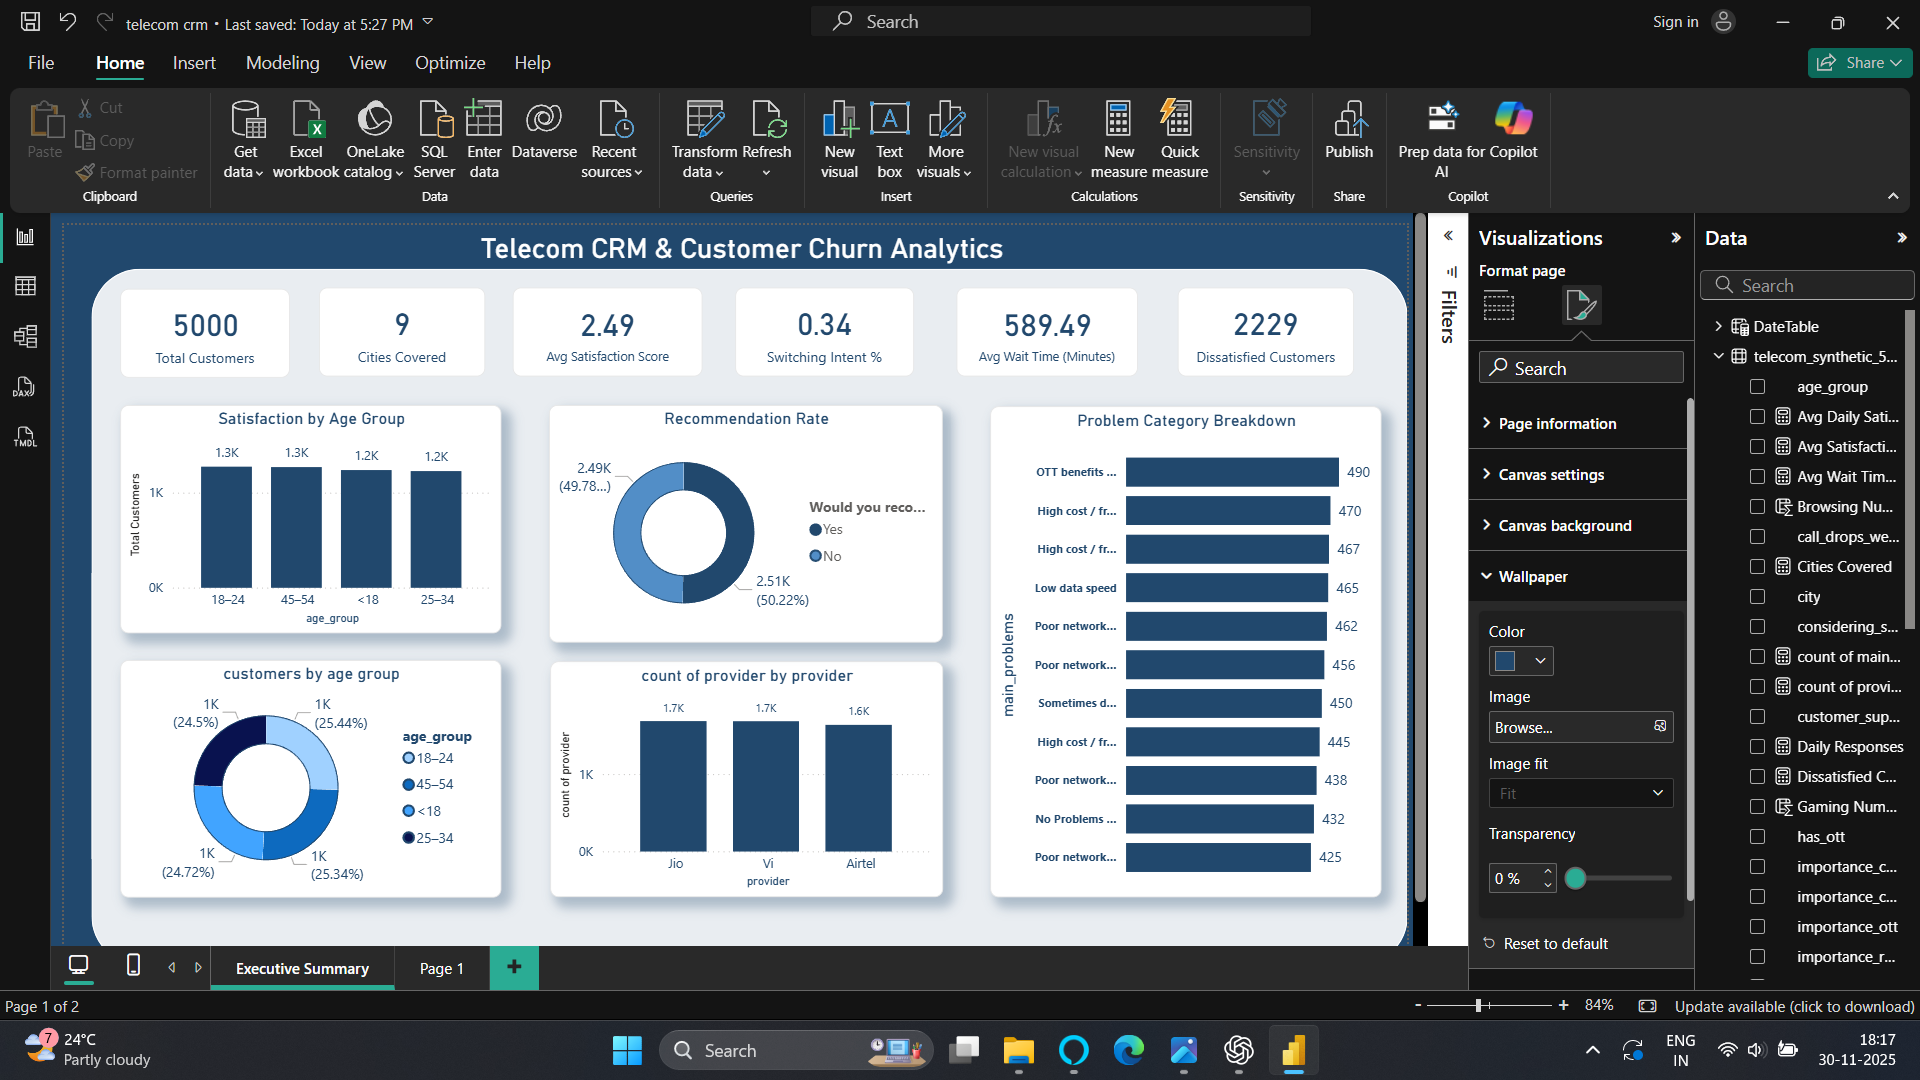

What the dashboard file says about the page in this screenshot:
{"tool":"powerbi","page":{"name":"Executive Summary","canvas":[1280,720],"ordinal":0},"visuals":[{"type":"shape","box":[26.2,41.7,1254.3,663.5],"z":0},{"type":"textbox","title":"Telecom CRM & Customer Churn Analytics","box":[370.4,0,551.5,41.7],"z":1000},{"type":"card","fields":{"Values":["telecom_synthetic_5000.Total Customers"]},"box":[53.6,60.7,162,84.6],"z":2000},{"type":"card","fields":{"Values":["telecom_synthetic_5000.Cities Covered"]},"box":[243,59.6,158.4,84.6],"z":3000},{"type":"card","fields":{"Values":["telecom_synthetic_5000.Switching Intent %"]},"box":[639.6,59.6,170.3,84.6],"z":4000},{"type":"card","fields":{"Values":["telecom_synthetic_5000.Dissatisfied Customers"]},"box":[1061.3,59.6,168,84.6],"z":5000},{"type":"card","fields":{"Values":["telecom_synthetic_5000.Avg Wait Time (Minutes)"]},"box":[850.5,59.6,172.7,84.6],"z":6000},{"type":"card","fields":{"Values":["telecom_synthetic_5000.Avg Satisfaction Score"]},"box":[427.6,59.6,181.1,84.6],"z":7000},{"type":"clusteredColumnChart","title":"Satisfaction by Age Group","fields":{"Category":["telecom_synthetic_5000.age_group"],"Y":["telecom_synthetic_5000.Total Customers"]},"box":[53.6,171.5,363.3,218],"z":8000},{"type":"clusteredColumnChart","fields":{"Category":["telecom_synthetic_5000.provider"],"Y":["telecom_synthetic_5000.count of provider"]},"box":[463.4,415.7,374,225.1],"z":9000},{"type":"clusteredBarChart","title":"Problem Category Breakdown","fields":{"Category":["telecom_synthetic_5000.main_problems"],"Y":["telecom_synthetic_5000.count of main problems"]},"box":[882.6,172.7,372.8,468.1],"z":10000},{"type":"donutChart","title":"Recommendation Rate","fields":{"Category":["telecom_synthetic_5000.Would you recommend your current provider to others?"],"Y":["CountNonNull(telecom_synthetic_5000.Would you recommend your current provider to others?)"]},"box":[462.2,171.5,375.2,226.3],"z":11000},{"type":"donutChart","title":"  customers by age group","fields":{"Y":["telecom_synthetic_5000.Total Customers"],"Category":["telecom_synthetic_5000.age_group"]},"box":[53.6,414.5,363.3,226.3],"z":12000}]}

Visuals, with their boxes on the page's 1280x720 design canvas (x1, y1, x2, y2). These are canvas units, not pixel positions in the 1920x1080 screenshot, which may show the page scaled, cropped or inside an application window:
shape: locate(26, 42, 1280, 705)
"Telecom CRM & Customer Churn Analytics" textbox: locate(370, 0, 922, 42)
card - telecom_synthetic_5000.Total Customers: locate(54, 61, 216, 145)
card - telecom_synthetic_5000.Cities Covered: locate(243, 60, 401, 144)
card - telecom_synthetic_5000.Switching Intent %: locate(640, 60, 810, 144)
card - telecom_synthetic_5000.Dissatisfied Customers: locate(1061, 60, 1229, 144)
card - telecom_synthetic_5000.Avg Wait Time (Minutes): locate(850, 60, 1023, 144)
card - telecom_synthetic_5000.Avg Satisfaction Score: locate(428, 60, 609, 144)
"Satisfaction by Age Group" clusteredColumnChart: locate(54, 172, 417, 390)
clusteredColumnChart - telecom_synthetic_5000.provider x telecom_synthetic_5000.count of provider: locate(463, 416, 837, 641)
"Problem Category Breakdown" clusteredBarChart: locate(883, 173, 1255, 641)
"Recommendation Rate" donutChart: locate(462, 172, 837, 398)
"  customers by age group" donutChart: locate(54, 414, 417, 641)
